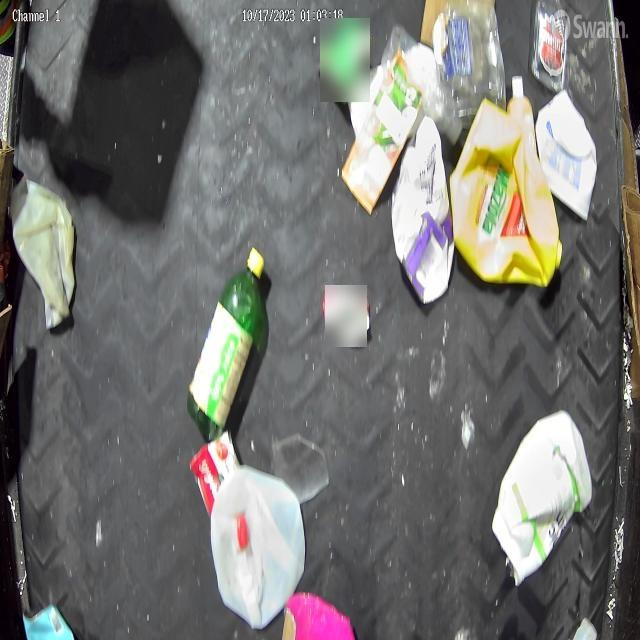milk_jug: (492, 410, 592, 580), (209, 464, 305, 630), (11, 175, 78, 332)
non_white_jug: (449, 98, 564, 286), (392, 118, 454, 304)
